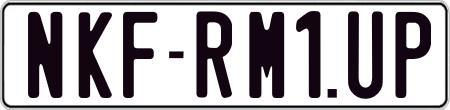1: (295, 10, 324, 101)
F: (120, 11, 155, 98)
K: (76, 12, 110, 104)
M: (247, 11, 288, 103)
N: (25, 12, 60, 99)
P: (396, 10, 434, 100)
R: (195, 10, 232, 99)
U: (347, 8, 387, 97)
